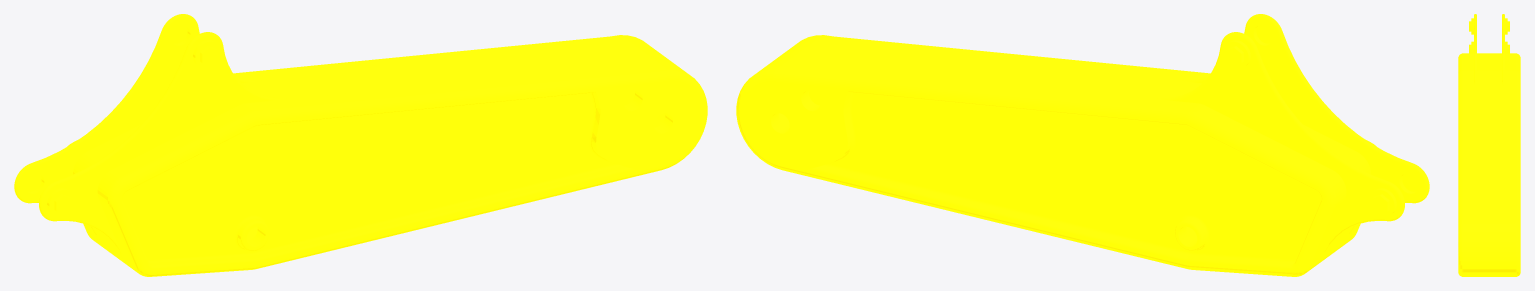
File: stick.dae
3 renders of one model, left to right at view 1: azimuth 30°, elevation 25°; view 2: azimuth 150°, elevation 25°; view 3: azimuth 270°, elevation 25°, orthographic. The views are drawn at different scales.
Parts seen in each view (by area): view 1: stick; view 2: stick; view 3: stick.
Boxes of the visible parts, x1,y1,x2,y2 form: stick: (14,14,707,276); stick: (736,14,1429,276); stick: (1458,14,1520,276).
Bounding box in the file's own units: 3.08 × 0.4445 × 1.07.
